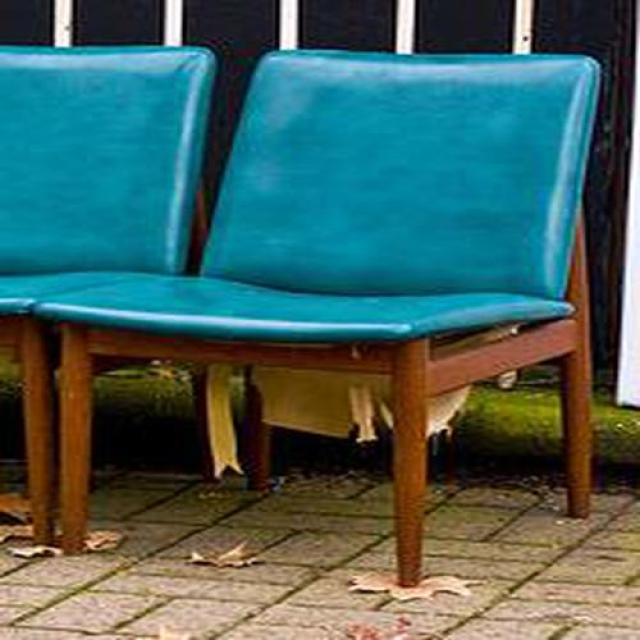chair: (0, 50, 603, 590)
